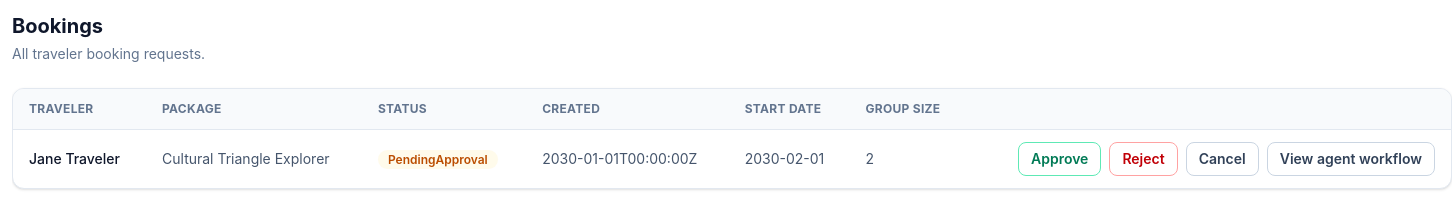
Scenario: OpsBookingsPage › approves a pending booking and updates its status in place
Expected: the text "PendingApproval" is shown, [378, 150, 498, 169]
What coordinates should you click on to do the following:
click the button "Approve"
I would click on:
 (1060, 159)
Its box is [1018, 142, 1101, 176].
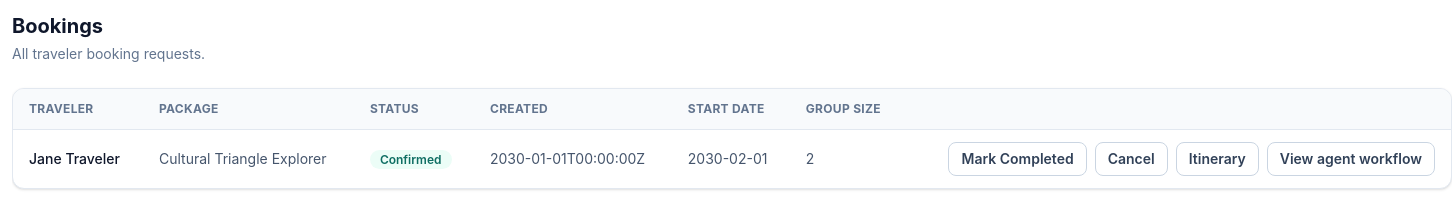
Expected: the text "Confirmed" is shown, [370, 150, 452, 169]
